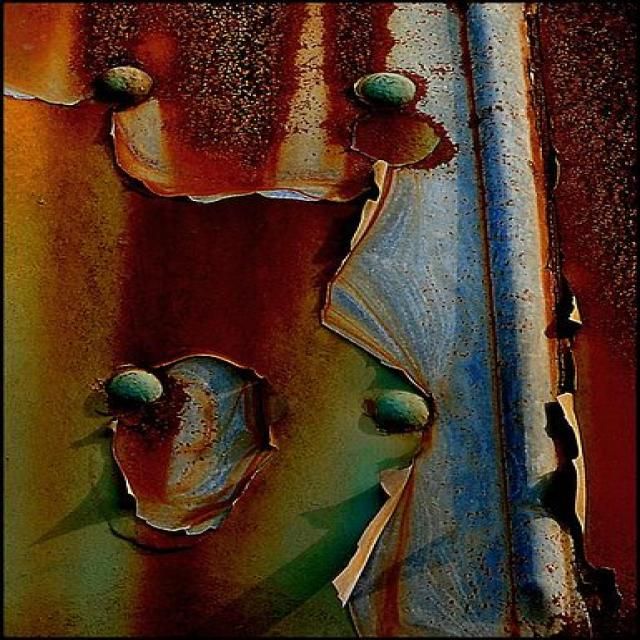Uniform Corrosion: (2, 1, 455, 635), (512, 1, 637, 635)
